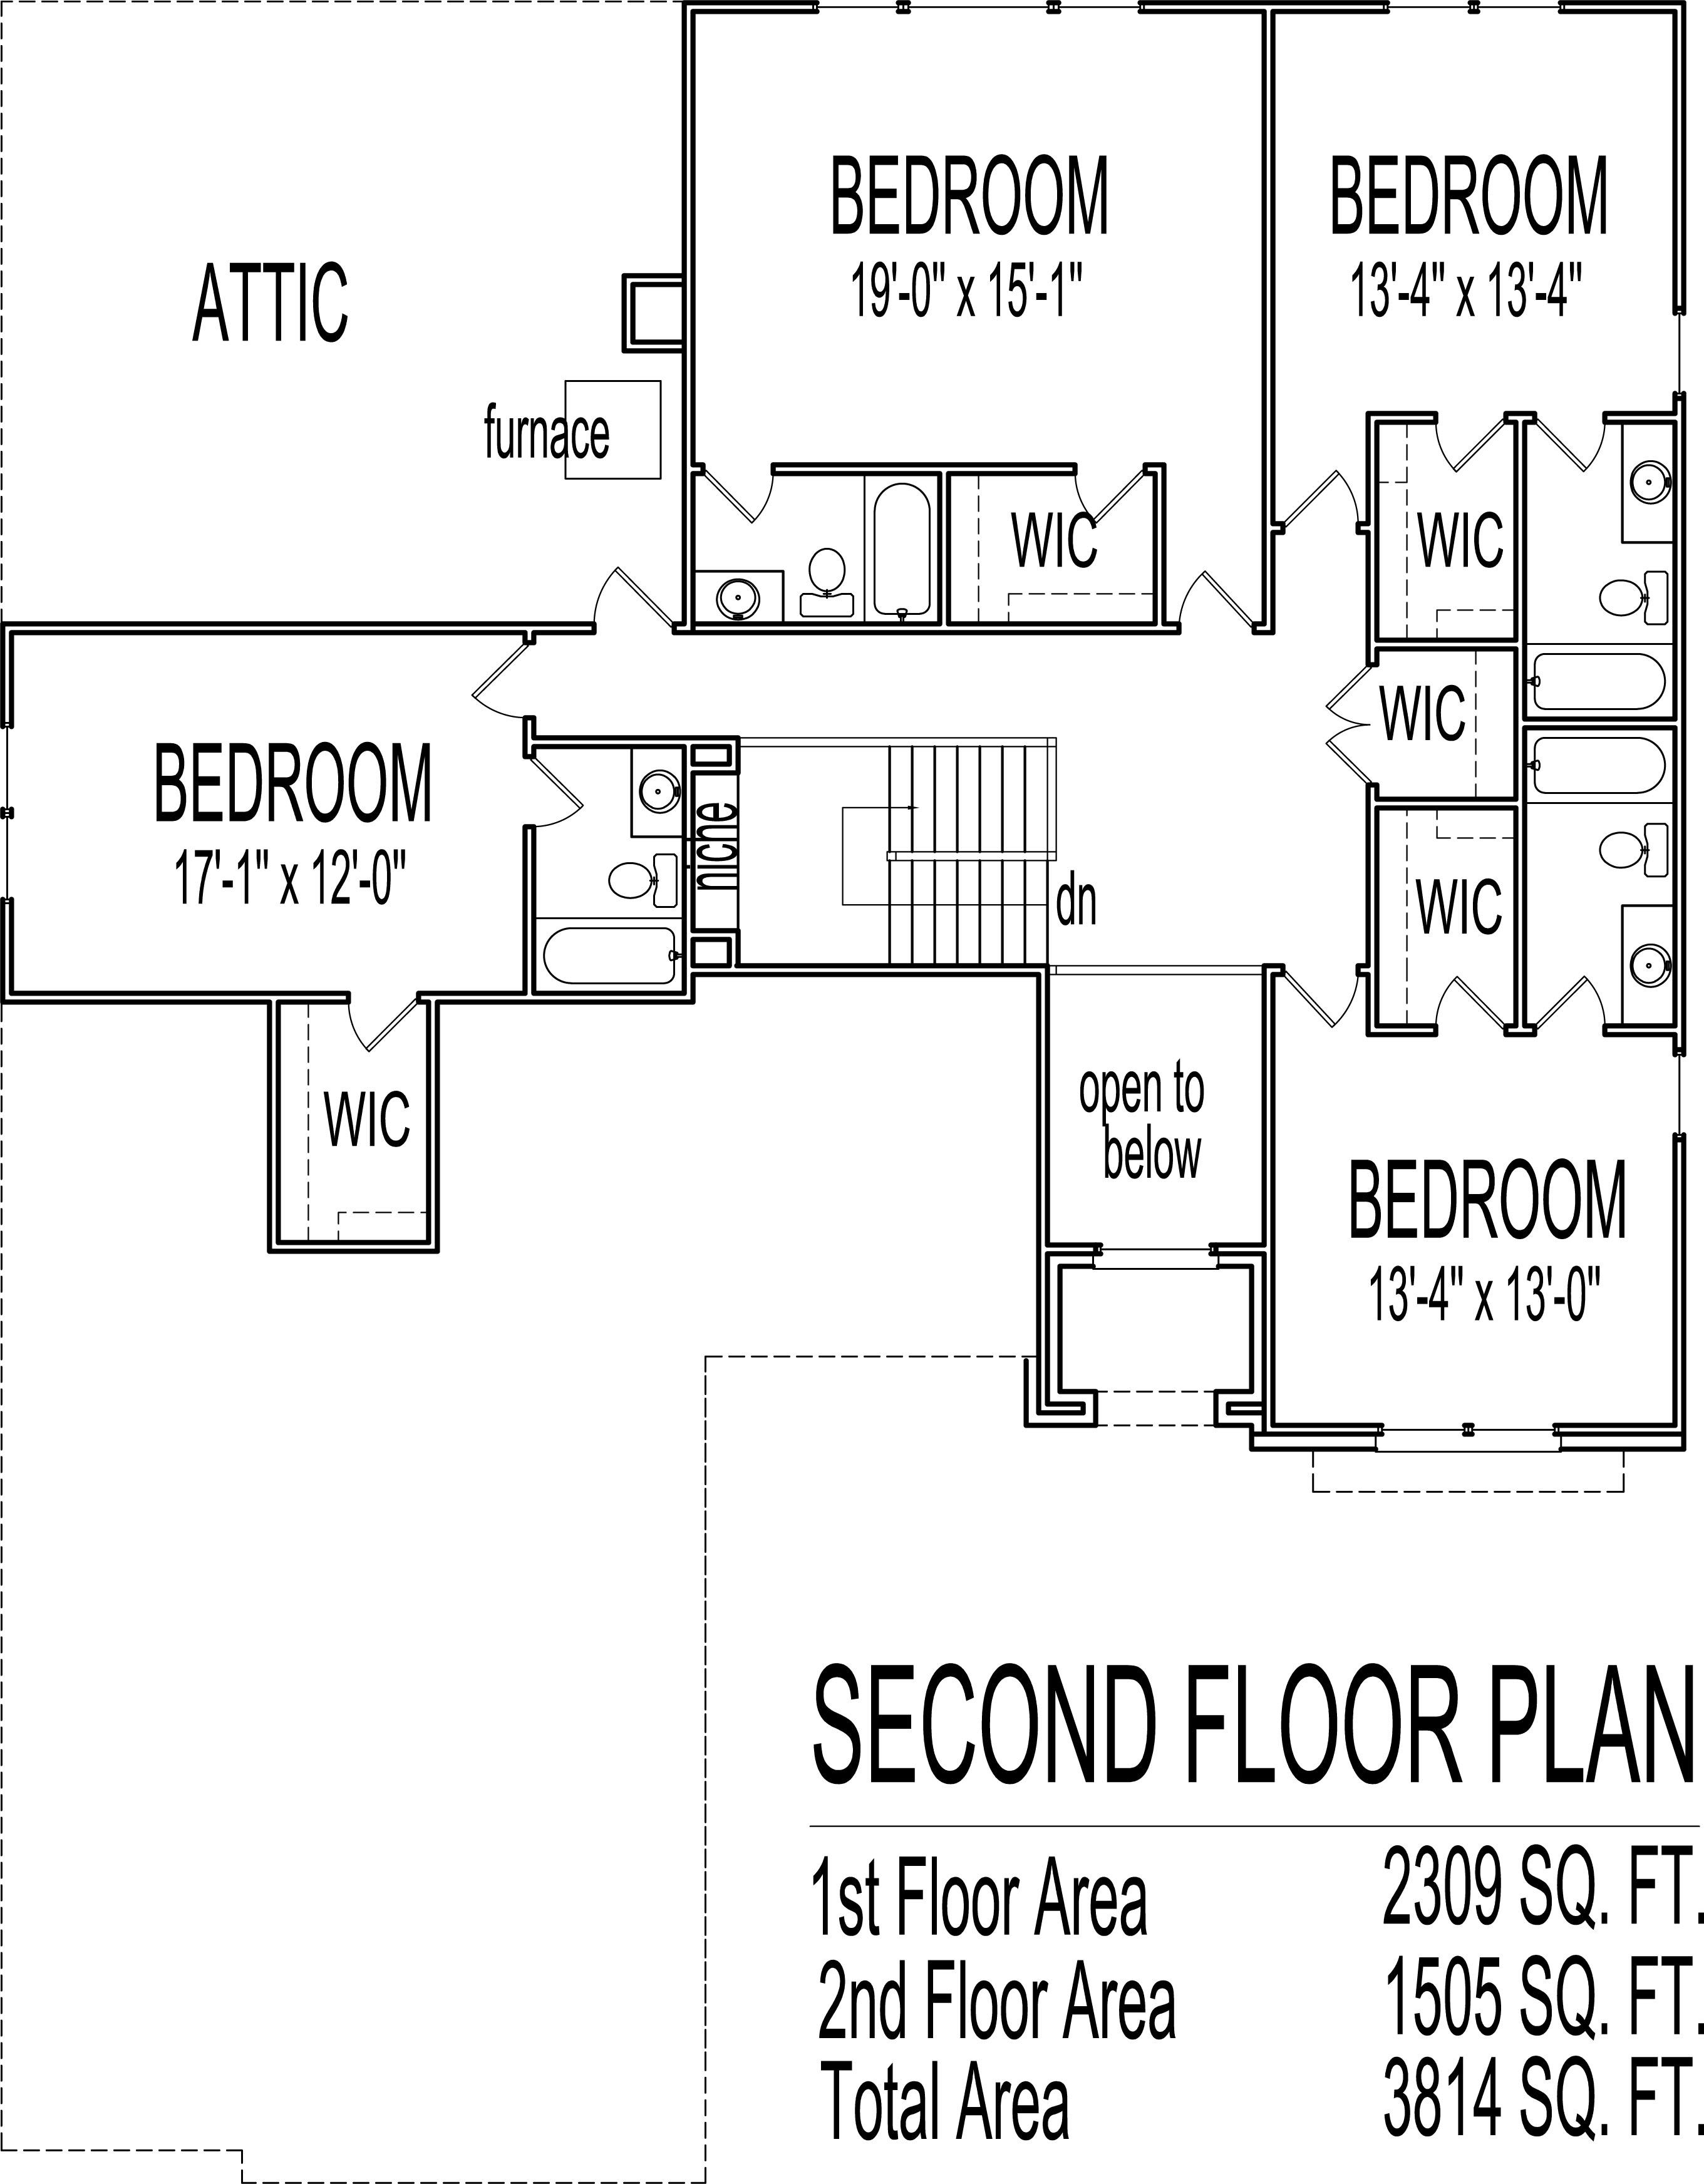room: (677, 2, 1271, 477), (11, 619, 518, 1000), (1262, 0, 1684, 411), (1271, 1026, 1679, 1436), (1528, 711, 1695, 1035), (1523, 415, 1679, 727), (266, 989, 447, 1253), (520, 734, 692, 1007), (688, 466, 958, 631), (942, 459, 1177, 636), (1369, 794, 1520, 1039), (1371, 415, 1525, 642), (1364, 640, 1516, 805)
